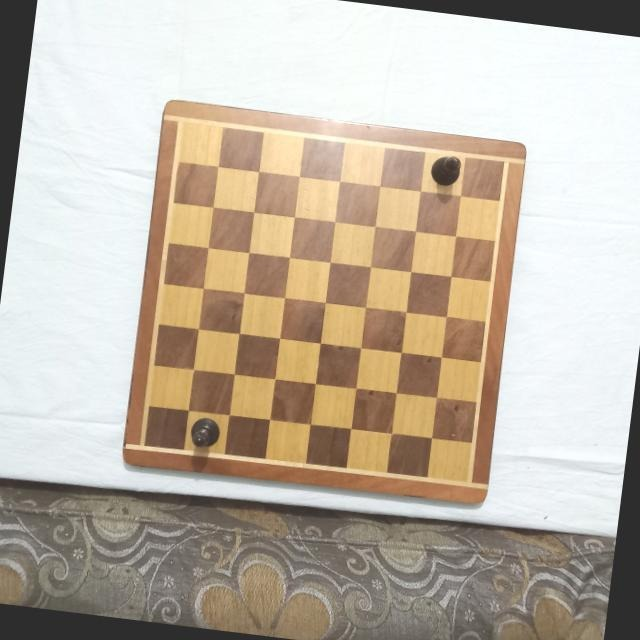black-bishop: (426, 152, 462, 188), (186, 414, 222, 450)
